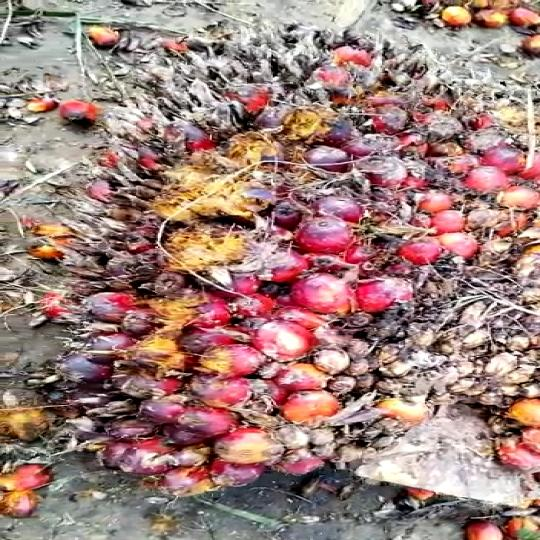masak: (44, 16, 540, 514)
